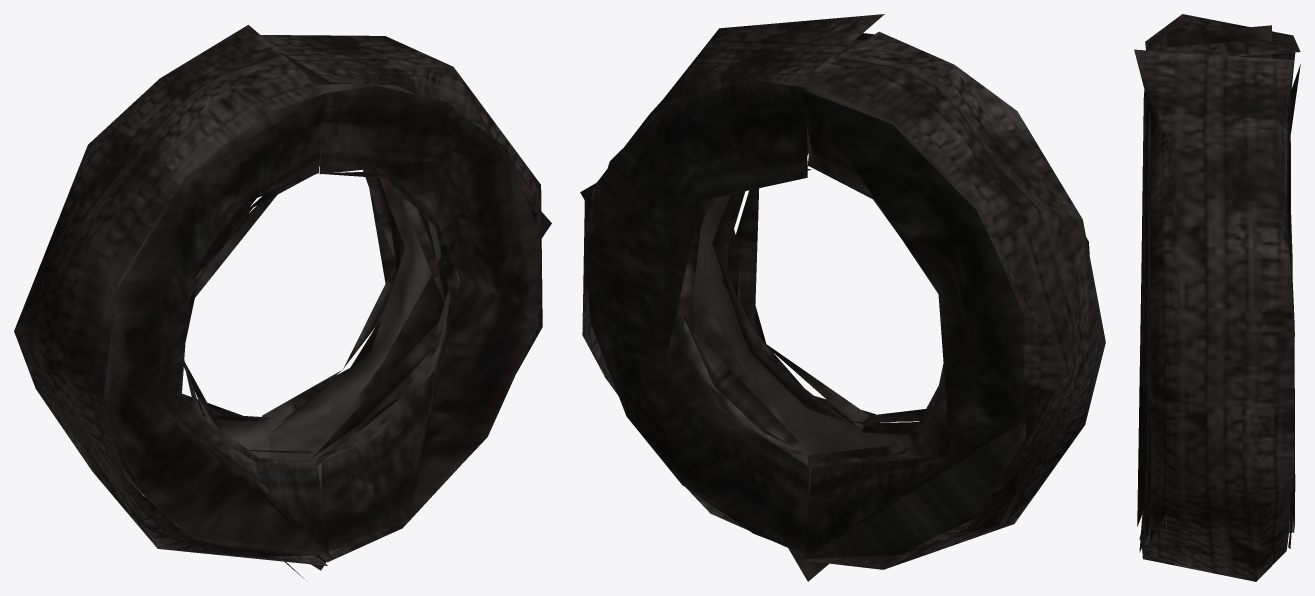
File: old_tyre.glb
The picture shows the model from 3 angles, left to right: view 1: azimuth 30°, elevation 25°; view 2: azimuth 150°, elevation 25°; view 3: azimuth 270°, elevation 25°; orthographic projection.
Visible parts, largest first — view 1: old_tyre; view 2: old_tyre; view 3: old_tyre.
Part boxes in pixels (x1,y1,x2,y2): old_tyre: [14, 25, 551, 578]; old_tyre: [580, 14, 1105, 581]; old_tyre: [1134, 14, 1300, 581].
Bounding box in the file's own units: 0.6082 × 0.6342 × 0.1794.
Materials: 1 (1 with a texture image).
